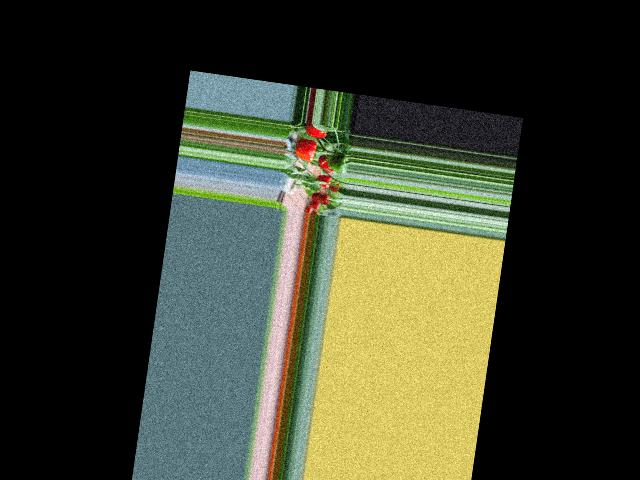bell_pepper: (311, 173, 335, 190)
